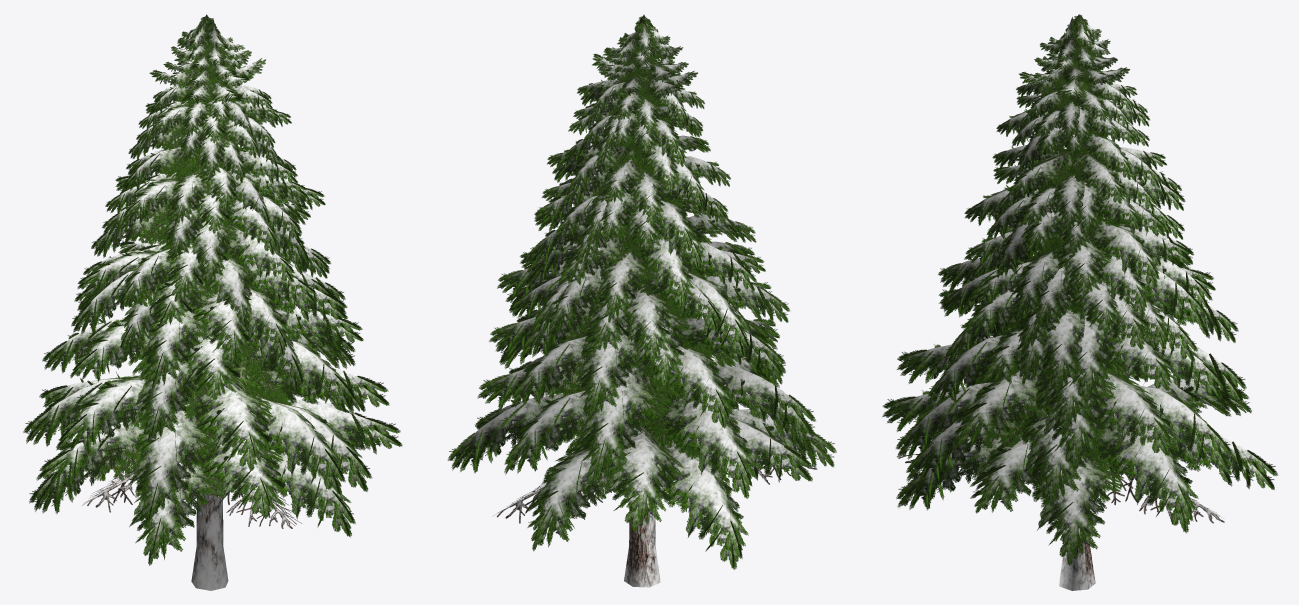
File: tree.glb
The picture shows the model from 3 angles, left to right: view 1: azimuth 30°, elevation 25°; view 2: azimuth 150°, elevation 25°; view 3: azimuth 270°, elevation 25°; orthographic projection.
Visible parts, largest first — view 1: Object_3; view 2: Object_3; view 3: Object_3.
Boxes of the visible parts, x1=… form: Object_3: x1=23, y1=14, x2=402, y2=590; Object_3: x1=447, y1=14, x2=836, y2=587; Object_3: x1=882, y1=14, x2=1277, y2=590.
Size of the model in its own units: 194 by 295 by 194.
1 material, 1 textured.
